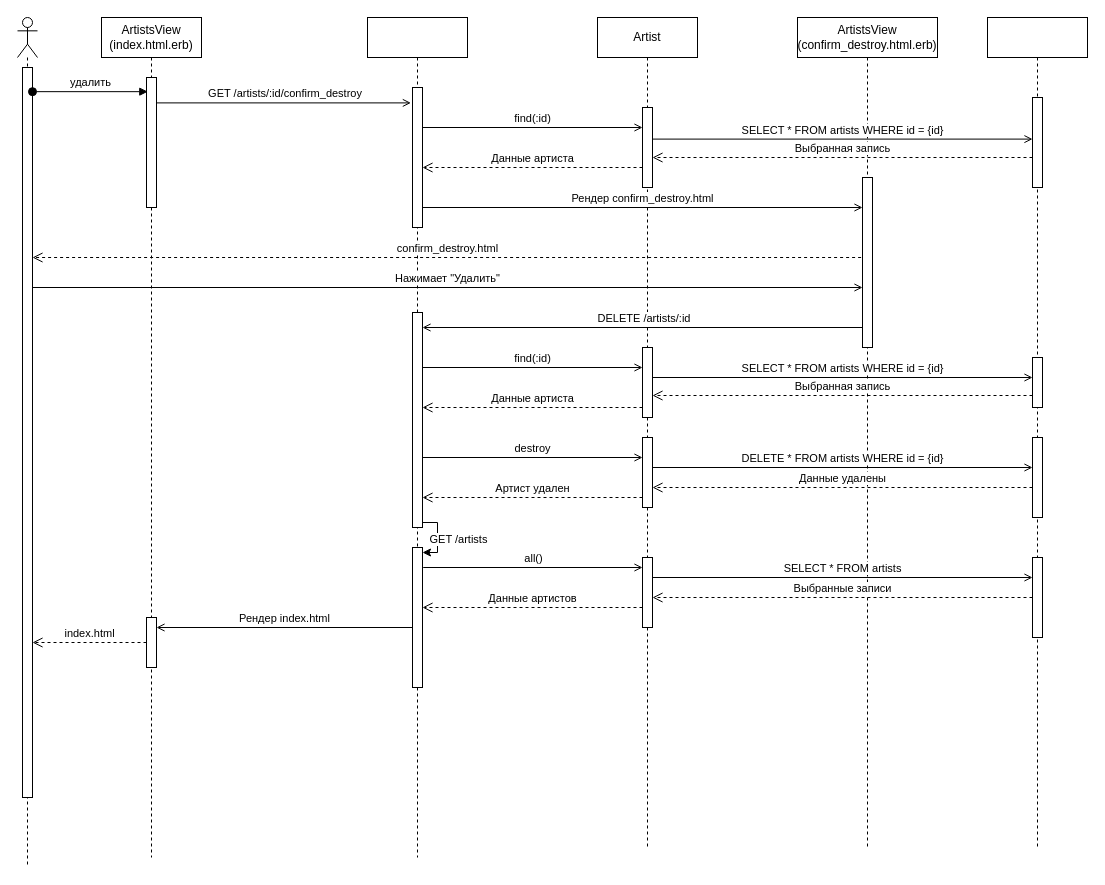
The diagram is 1105 pixels wide and 885 high, and some of its shapes have lost their labels. The box of each missing label's shape, as (x1, y1, x2, y2) in pixels:
ArtistsController: (366, 16, 468, 858)
Database: (986, 16, 1088, 848)
